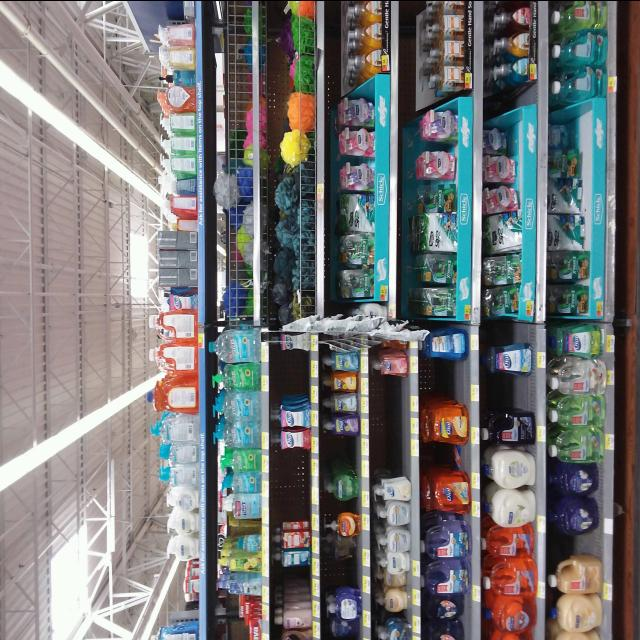empty_space: (374, 381, 410, 469), (276, 446, 310, 518), (285, 351, 312, 401), (428, 363, 468, 396), (496, 373, 533, 407), (326, 440, 355, 473), (566, 113, 594, 145), (561, 535, 595, 557), (501, 324, 535, 345), (280, 562, 311, 582), (505, 84, 535, 104), (334, 567, 360, 584)
